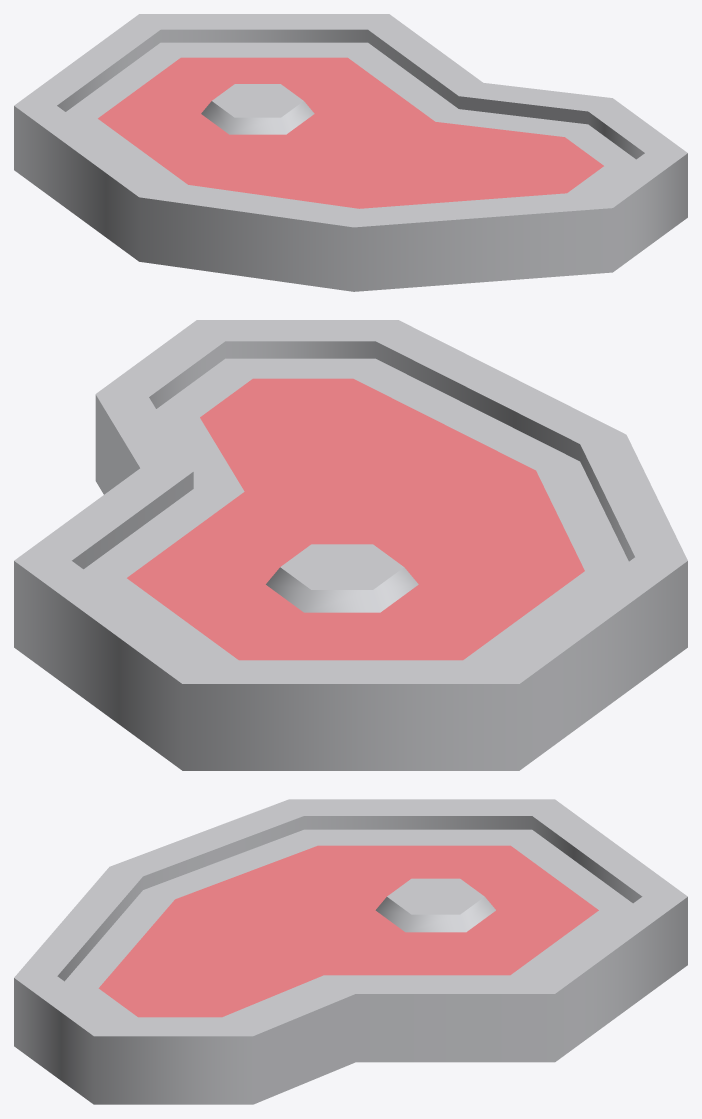
The model's file is meatRaw.obj.
3 views of the same model, one above another, from view 1: azimuth 30°, elevation 25°; view 2: azimuth 150°, elevation 25°; view 3: azimuth 270°, elevation 25° (orthographic). The views are drawn at different scales.
Parts seen in each view (by area): view 1: meatRaw; view 2: meatRaw; view 3: meatRaw.
Boxes of the visible parts, x1,y1,x2,y2 form: meatRaw: (14,14,687,291); meatRaw: (14,320,687,770); meatRaw: (14,799,687,1104).
Bounding box in the file's own units: 0.4785 × 0.0645 × 0.5754.
